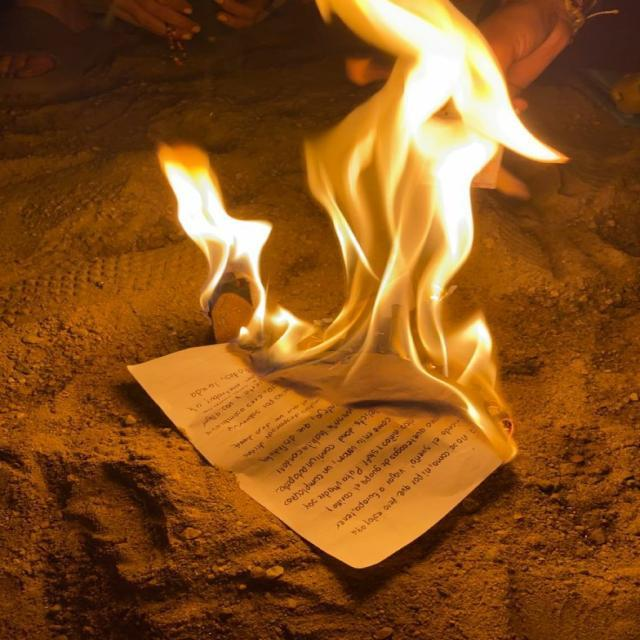Fire: (145, 1, 592, 338)
